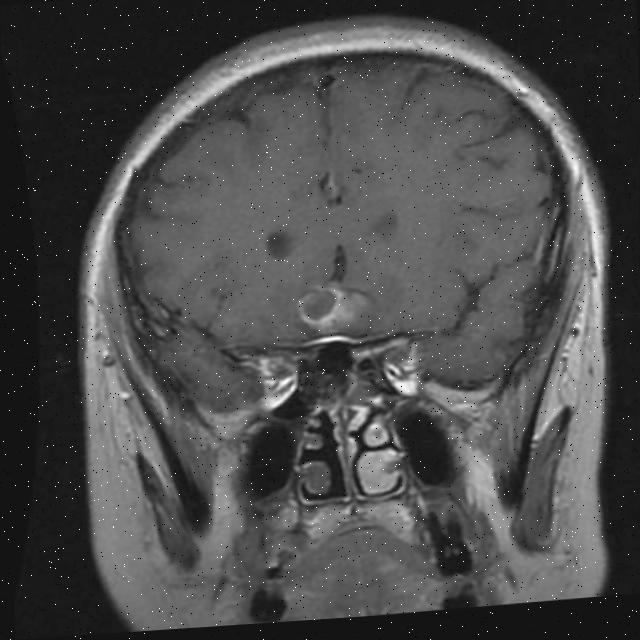Pituitary: (295, 281, 342, 327)
